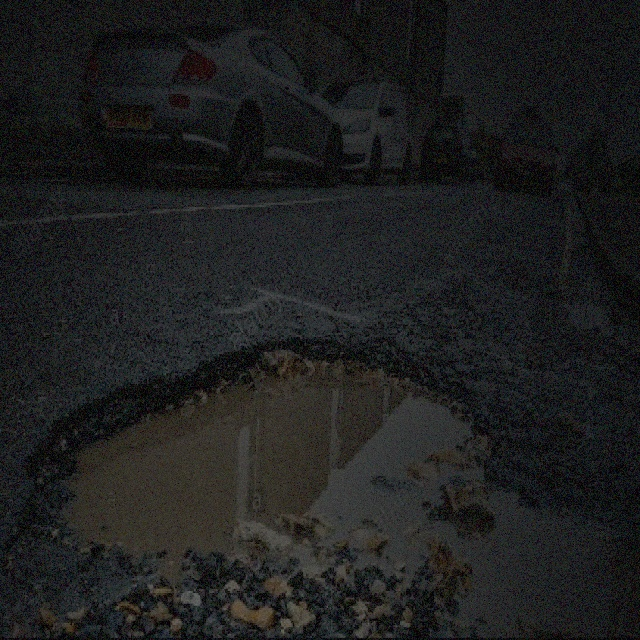pothole: (19, 326, 500, 606), (415, 467, 638, 638), (562, 292, 611, 331)
